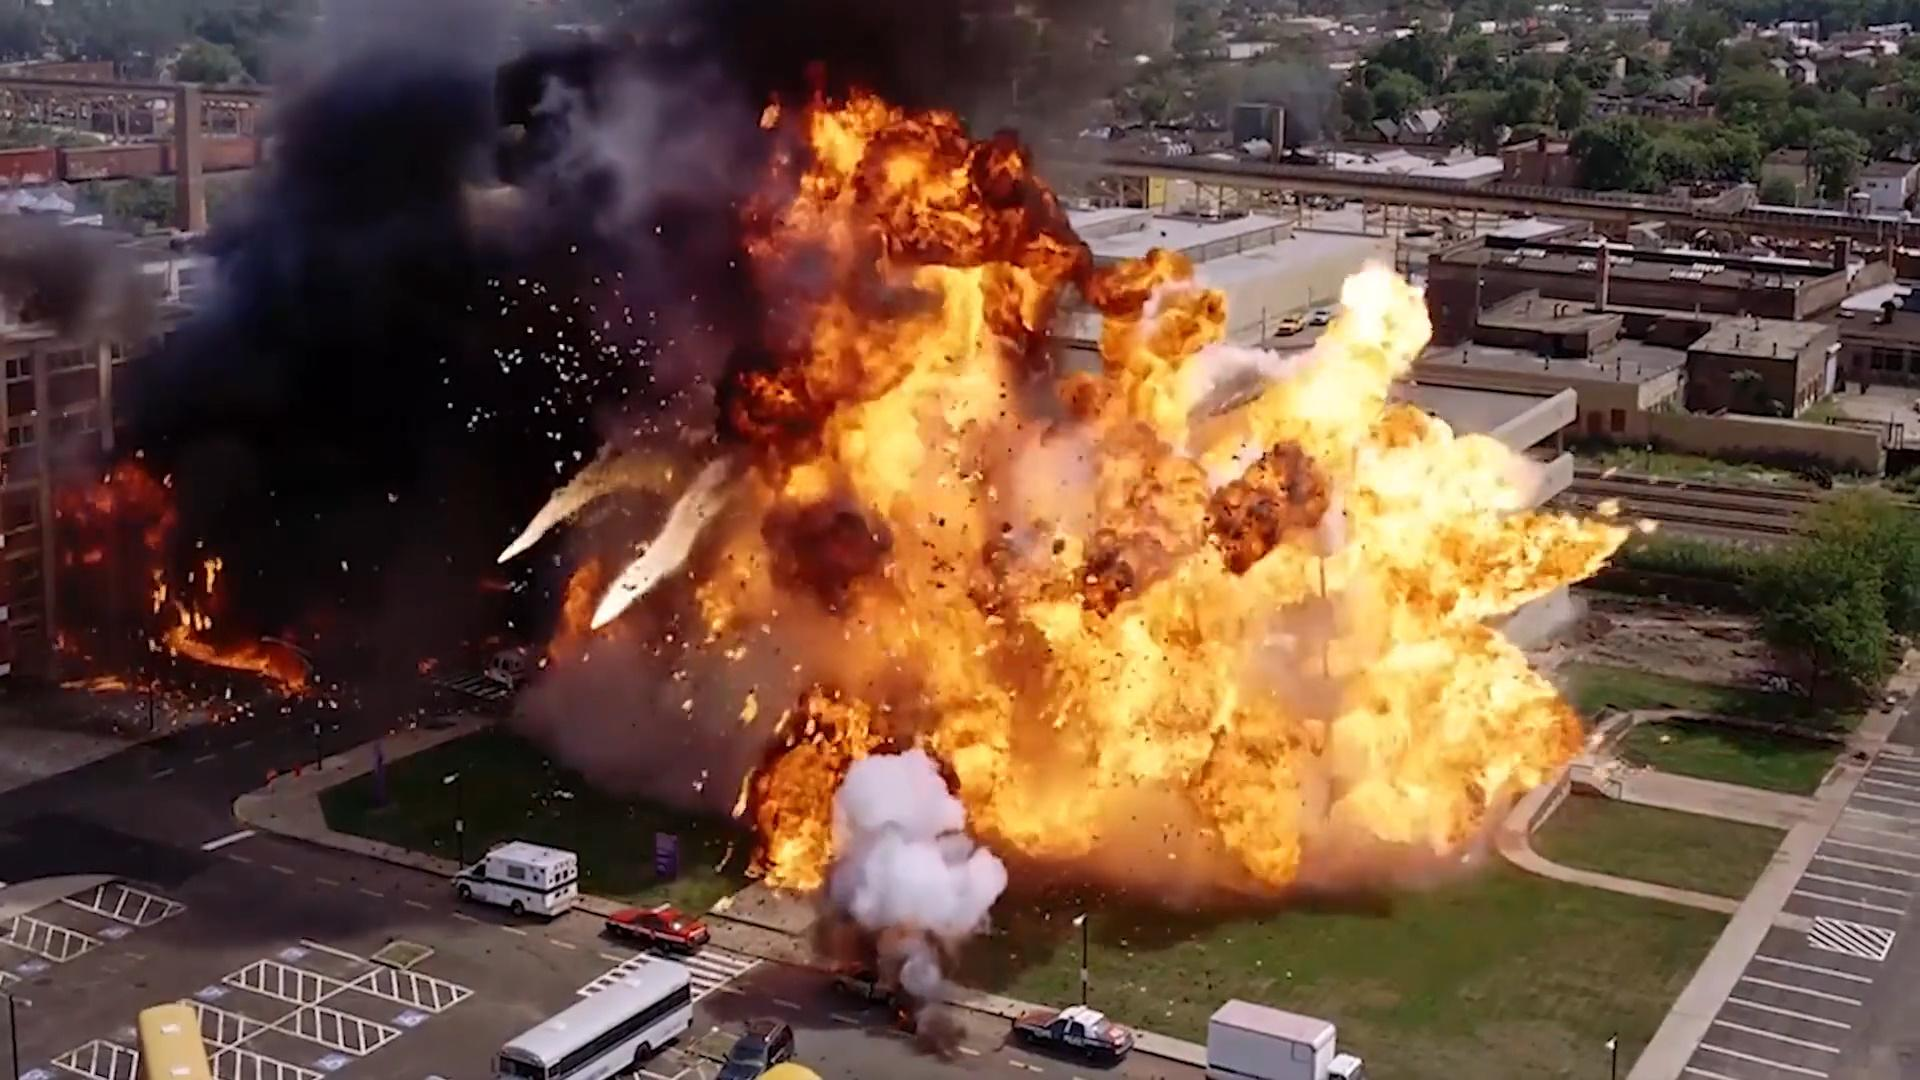fire: (490, 70, 1640, 888)
